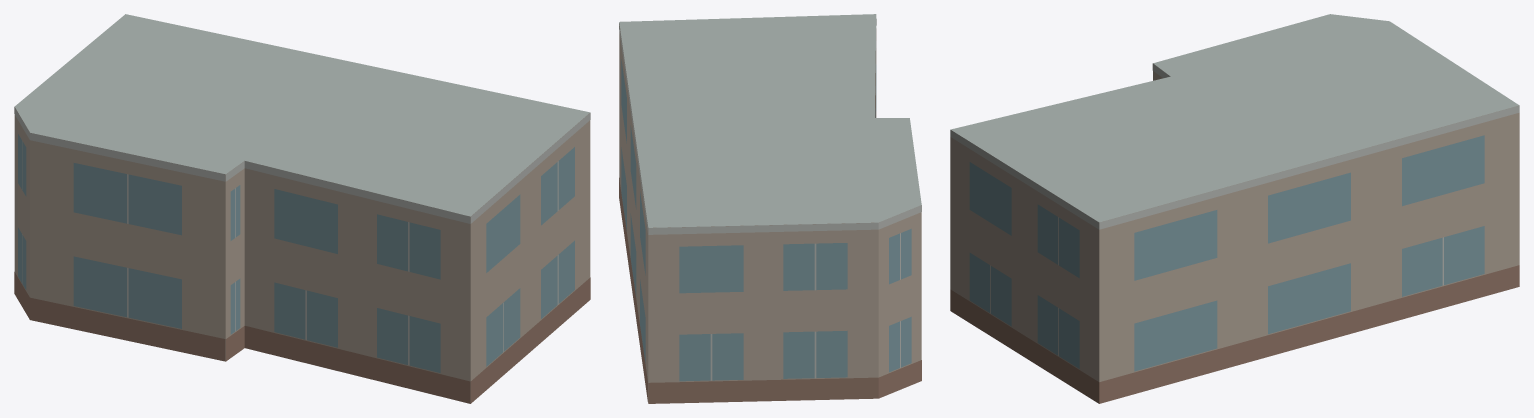
Rendered from survey-upis-32909957.glb.
The picture shows the model from 3 angles, left to right: view 1: azimuth 30°, elevation 25°; view 2: azimuth 150°, elevation 25°; view 3: azimuth 270°, elevation 25°; orthographic projection. The views are drawn at different scales.
Visible parts, largest first — view 1: survey-upis-32909957.tmp; view 2: survey-upis-32909957.tmp; view 3: survey-upis-32909957.tmp.
Part boxes in pixels (x1,y1,x2,y2): survey-upis-32909957.tmp: (14,14,590,403); survey-upis-32909957.tmp: (619,14,921,403); survey-upis-32909957.tmp: (950,14,1519,403).
Bounding box in the file's own units: 15.05 × 6.1 × 17.36.
